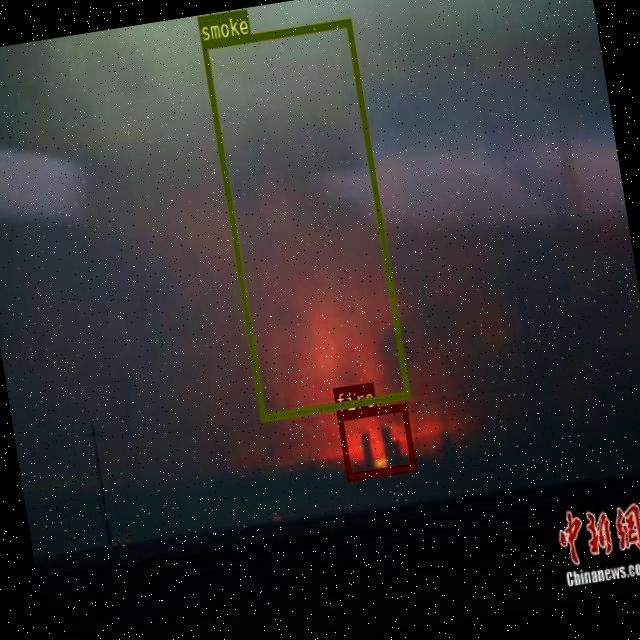fire: (336, 402, 415, 480)
smoke: (200, 18, 408, 421)
